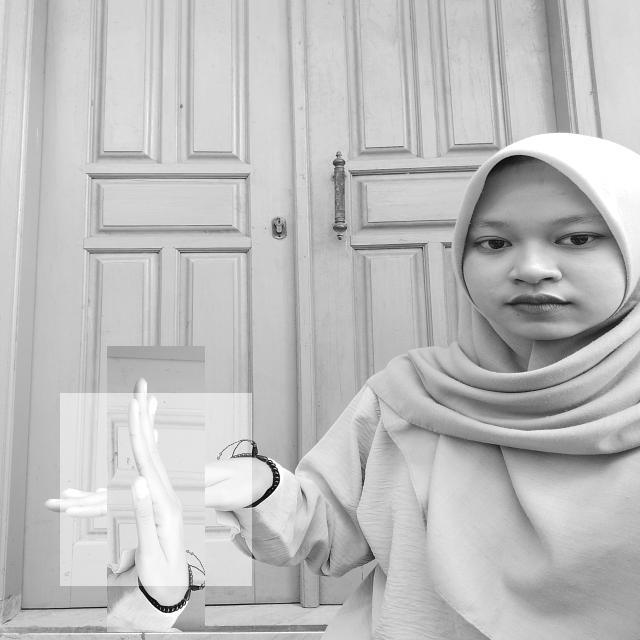adik: (60, 393, 252, 586)
